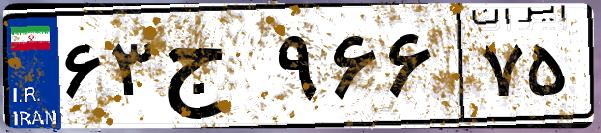3: (110, 28, 158, 98)
5: (525, 38, 570, 115)
6: (385, 28, 445, 110), (330, 28, 385, 110), (57, 26, 110, 100)
7: (475, 38, 525, 113)
9: (270, 28, 330, 110)
ج: (158, 20, 270, 120)
